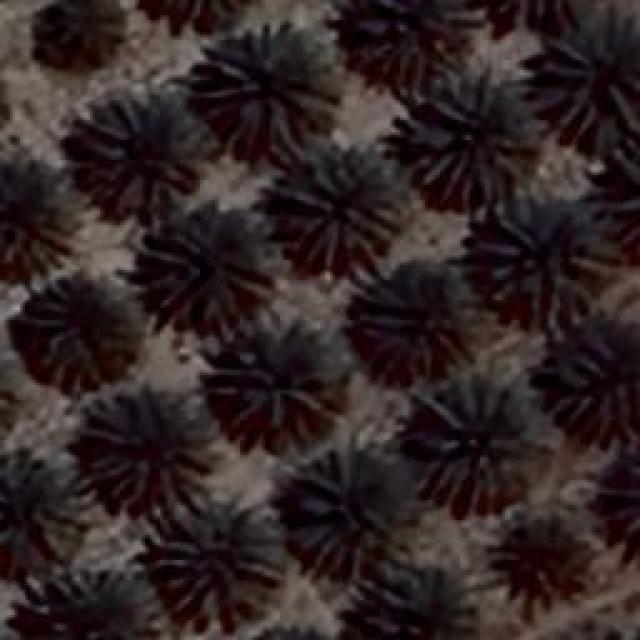PalmTree: (85, 49, 549, 566), (198, 22, 342, 160), (150, 490, 280, 628), (405, 70, 535, 208), (208, 312, 342, 438), (82, 390, 218, 512), (275, 140, 403, 268), (470, 200, 618, 310), (282, 444, 402, 578), (147, 208, 275, 328), (415, 375, 535, 503), (350, 268, 480, 378), (80, 98, 198, 212), (538, 8, 638, 142), (22, 286, 138, 386), (18, 572, 160, 640), (341, 0, 456, 82), (340, 560, 455, 640), (0, 462, 80, 566), (547, 347, 635, 435), (0, 169, 70, 279), (41, 0, 121, 62), (610, 132, 640, 258), (611, 439, 640, 551), (473, 0, 602, 19), (234, 619, 349, 640), (0, 328, 19, 447), (0, 324, 15, 445), (235, 624, 348, 640)
